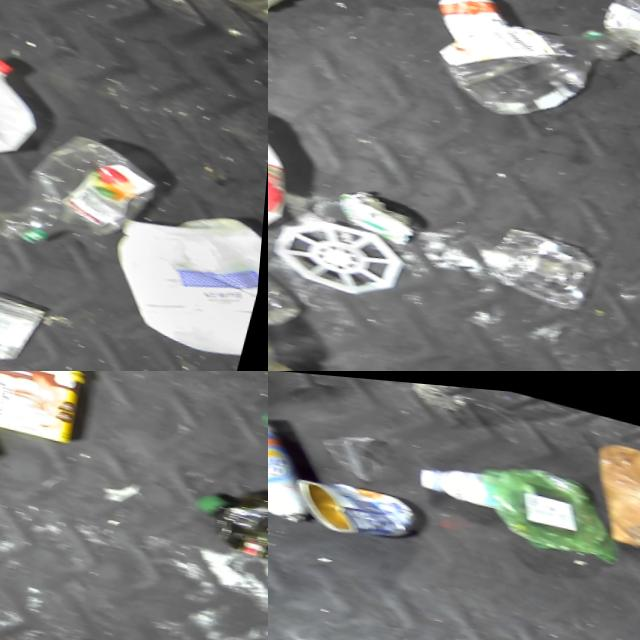can: (281, 461, 430, 550), (268, 399, 335, 525), (429, 0, 518, 47), (200, 0, 268, 35)
milk_jug: (0, 6, 55, 173), (268, 61, 315, 255)
non_white_jug: (0, 371, 92, 440)
plastic_bottle: (427, 0, 633, 134), (0, 110, 172, 267), (268, 238, 324, 371), (594, 0, 640, 53)
